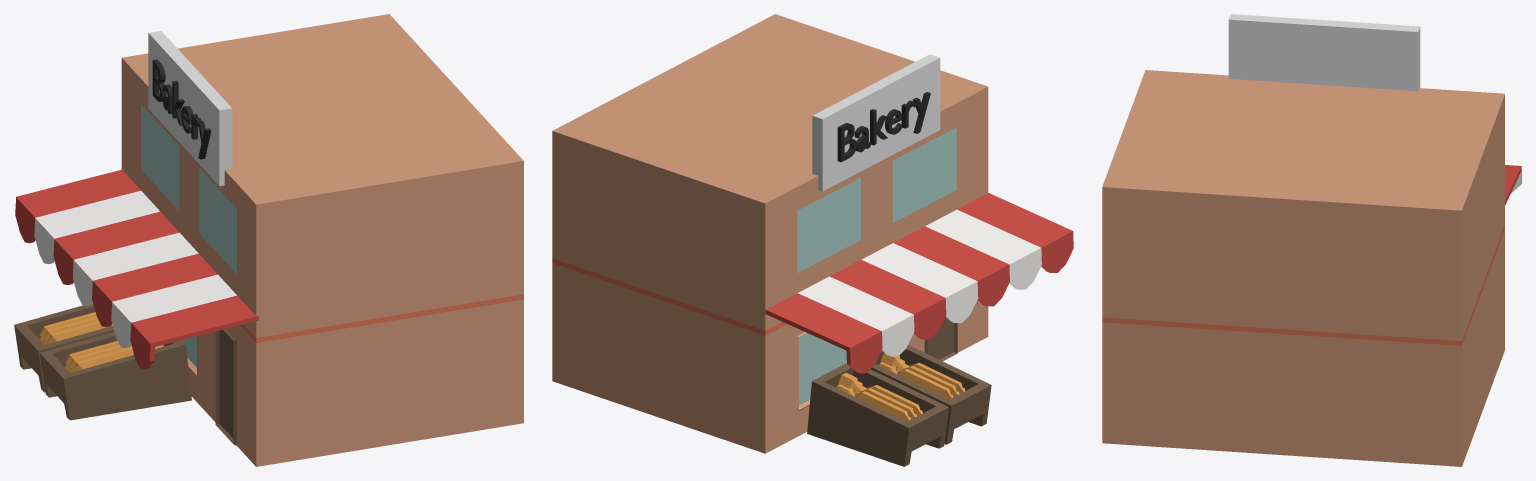
Rendered from BAKERY_REDUCED.fbx.
The picture shows the model from 3 angles, left to right: view 1: azimuth 30°, elevation 25°; view 2: azimuth 150°, elevation 25°; view 3: azimuth 270°, elevation 25°; orthographic projection. The views are drawn at different scales.
Parts seen in each view (by area): view 1: Bakery; view 2: Bakery; view 3: Bakery.
Part boxes in pixels (x1,y1,x2,y2): Bakery: (14, 14, 523, 466); Bakery: (552, 14, 1073, 466); Bakery: (1102, 14, 1521, 466).
Bounding box in the file's own units: 241 × 189 × 228.
